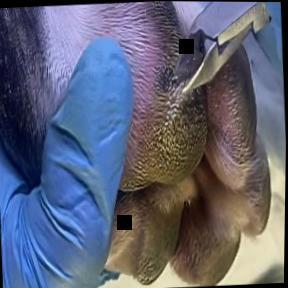keratosis: (126, 65, 213, 193)
